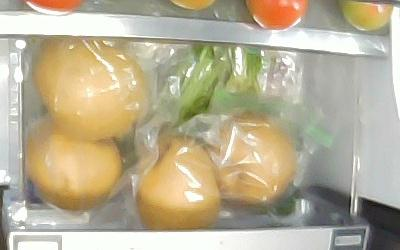pear_vinyl: (34, 38, 149, 142), (28, 120, 120, 212), (207, 114, 295, 205), (137, 133, 219, 230)
